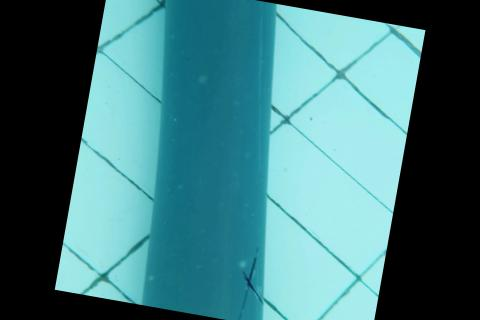keretakan: (227, 244, 274, 320)
